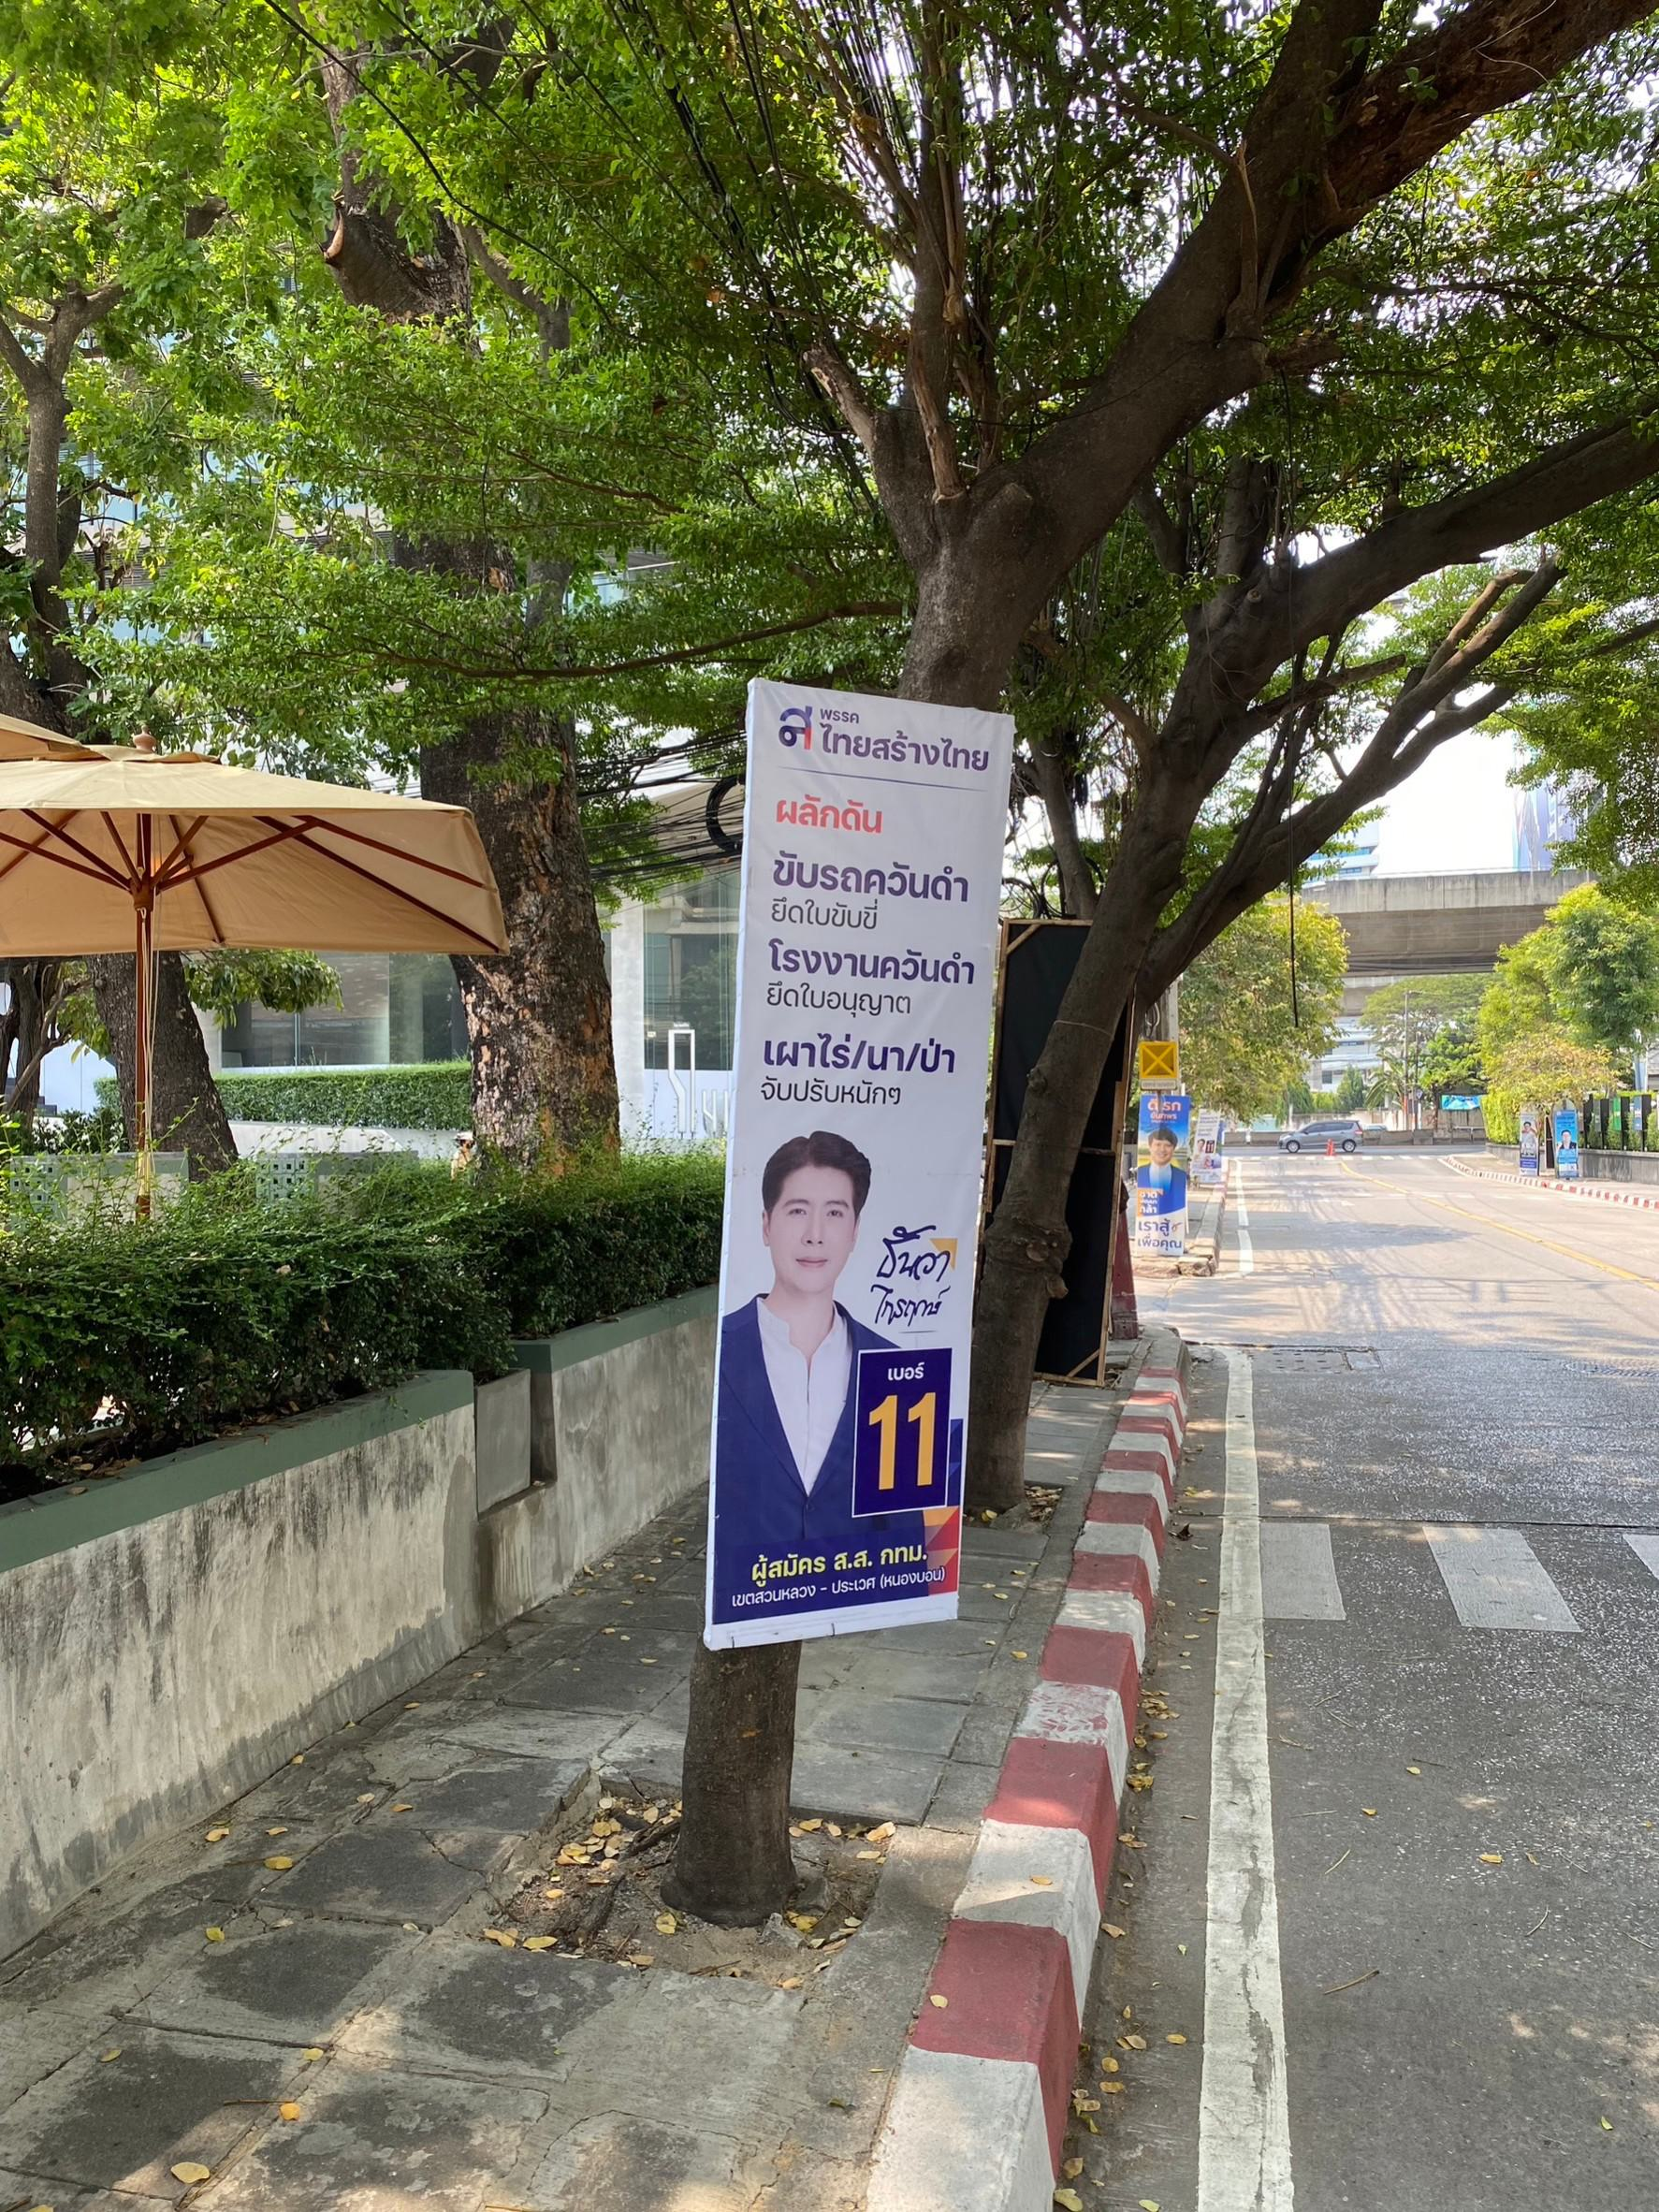Banner: (678, 697, 1014, 1655)
